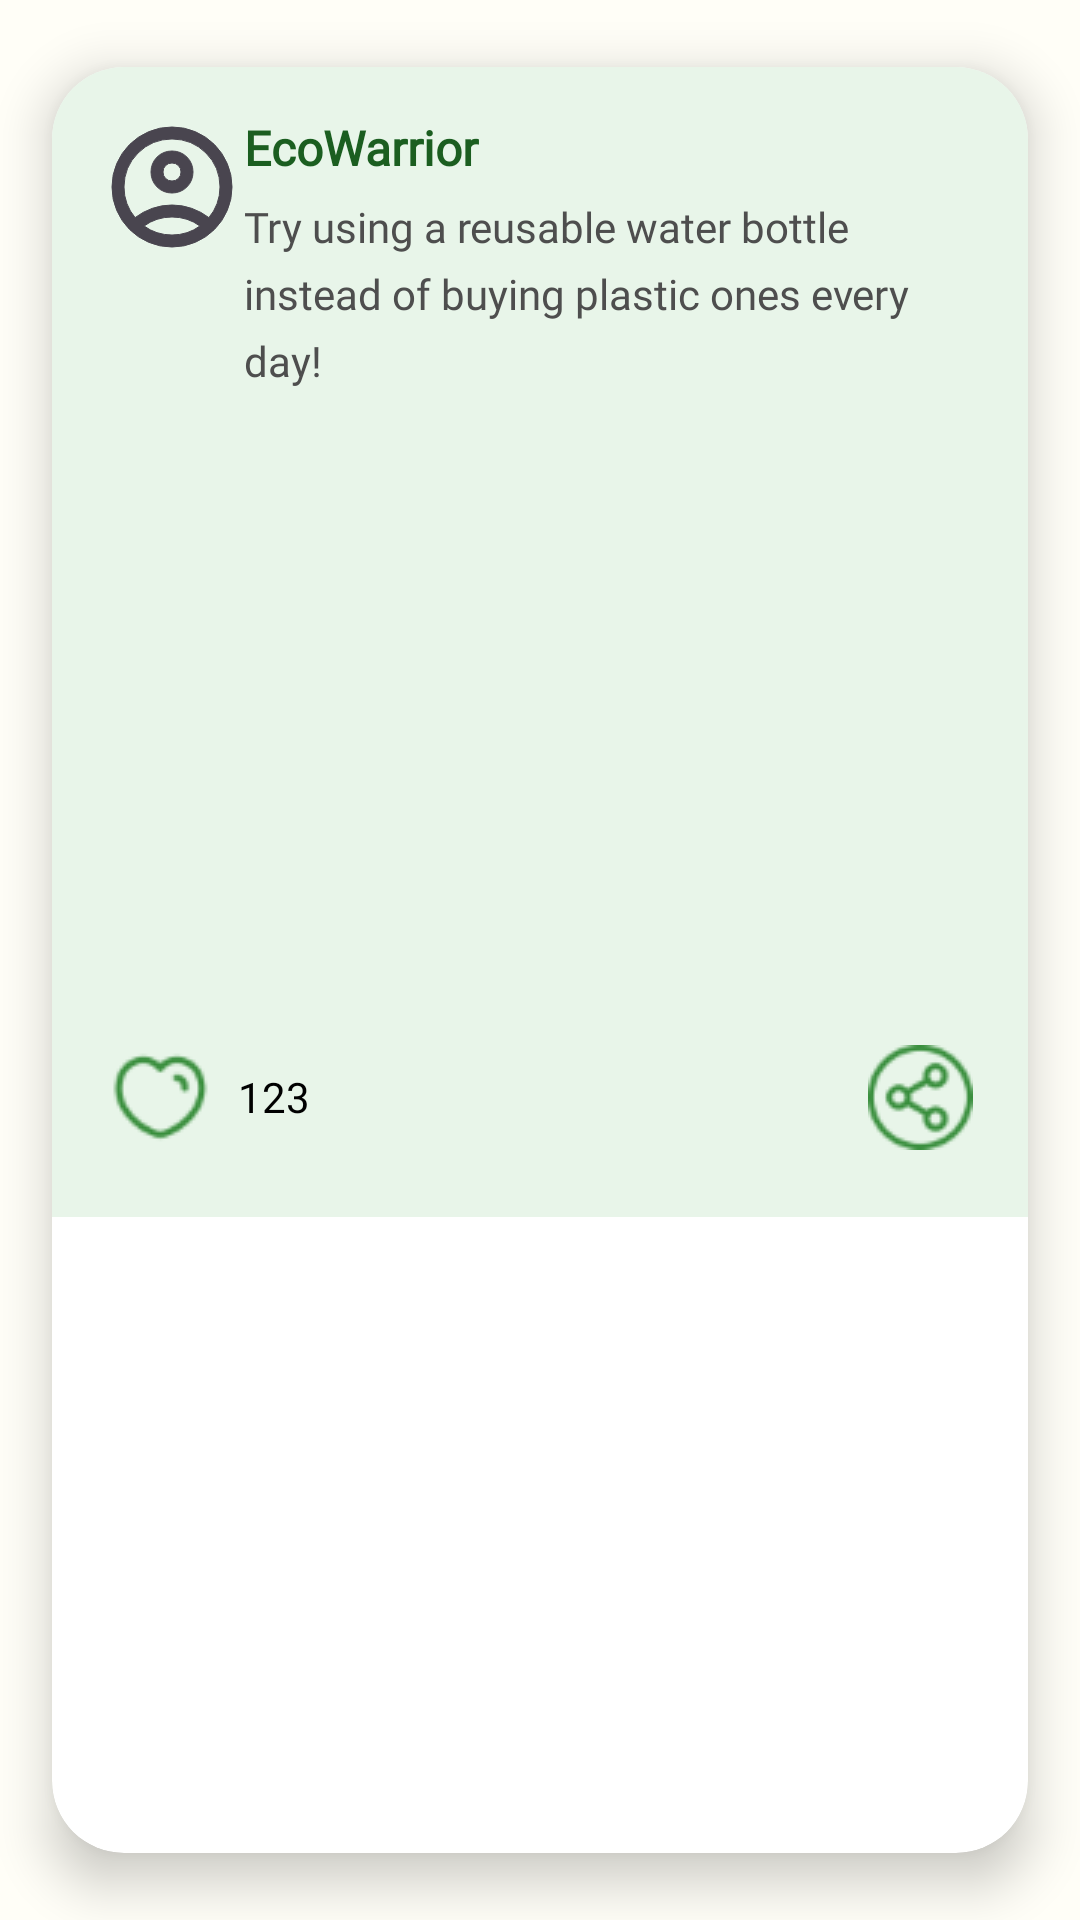

Icon click points for this 1080px×1920px phone screenshot, format [x,y]:
Like: [160,1097]
Profile Picture: [172,187]
Share: [920,1097]
